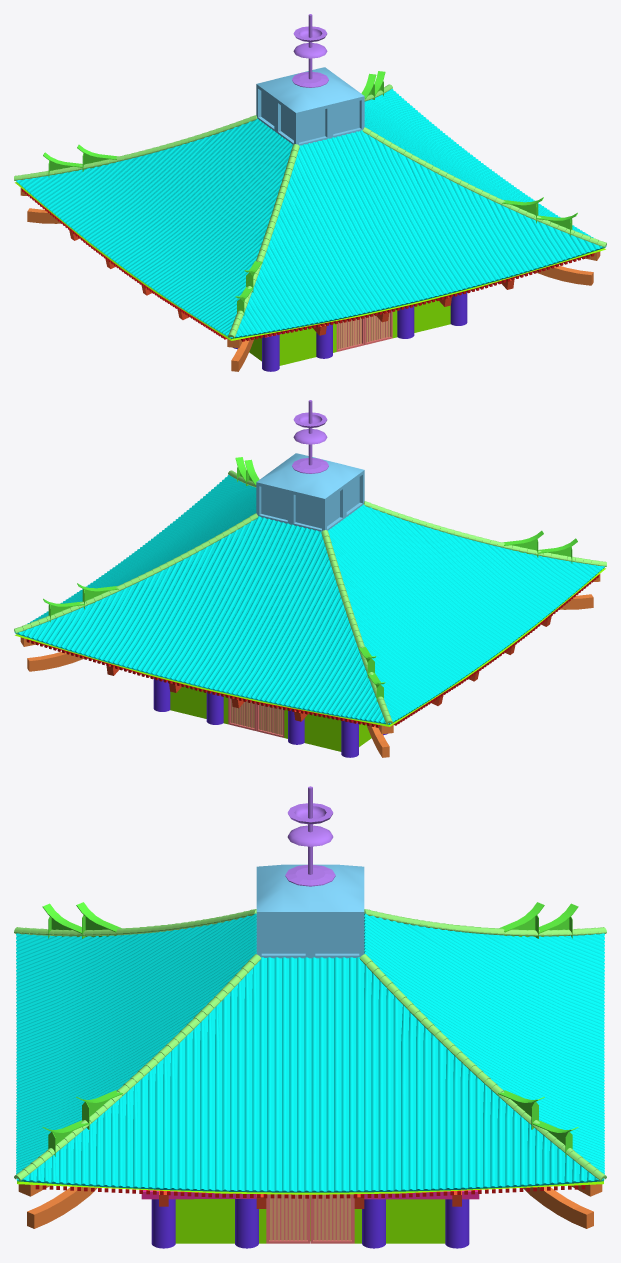
Rendered from PagodaTop.FBX.
3 views of the same model, one above another, from view 1: azimuth 30°, elevation 25°; view 2: azimuth 150°, elevation 25°; view 3: azimuth 270°, elevation 25° (orthographic). The views are drawn at different scales.
Visible parts, largest first — view 1: Shape001, Shape004, Shape002, Roof_Cap, Cap_Base, ArchTiles013, Roof_Decor, ArchTiles011, ArchTiles012, Fence_Segment088, Top, Pillar025 (+4 smaller); view 2: Shape003, Shape004, Shape002, Roof_Cap, Cap_Base, ArchTiles004, Roof_Decor, ArchTiles012, ArchTiles011, ArchTiles008, Pillar027, Pillar032 (+4 smaller); view 3: Shape002, Shape003, Shape001, Roof_Cap, Cap_Base, Roof_Decor, ArchTiles004, ArchTiles013, ArchTiles012, ArchTiles011, ArchTiles008, Fence_Segment088 (+7 smaller).
Part boxes in pixels (x1,y1,x2,y2): Shape001: (231, 130, 605, 338); Shape004: (16, 118, 293, 338); Shape002: (364, 89, 606, 246); Roof_Cap: (256, 67, 364, 145); Cap_Base: (15, 182, 605, 365); ArchTiles013: (362, 127, 606, 247); Roof_Decor: (292, 14, 328, 87); ArchTiles011: (14, 115, 257, 180); ArchTiles012: (228, 144, 299, 338); Fence_Segment088: (536, 251, 600, 285); Top: (69, 230, 514, 335); Pillar025: (262, 335, 279, 371); Shape003: (15, 516, 389, 724); Shape004: (327, 504, 604, 724); Shape002: (14, 475, 256, 632); Roof_Cap: (256, 453, 364, 531); Cap_Base: (15, 568, 605, 751); ArchTiles004: (14, 513, 258, 633); Roof_Decor: (292, 400, 328, 473); ArchTiles012: (363, 501, 606, 566); ArchTiles011: (321, 530, 392, 724); ArchTiles008: (20, 637, 83, 671); Pillar027: (341, 721, 358, 757); Pillar032: (206, 691, 223, 724); Shape002: (17, 957, 603, 1192); Shape003: (364, 913, 604, 1180); Shape001: (16, 913, 256, 1180); Roof_Cap: (256, 864, 364, 958); Cap_Base: (17, 1181, 603, 1243); Roof_Decor: (285, 786, 335, 886); ArchTiles004: (359, 954, 606, 1180); ArchTiles013: (14, 954, 261, 1180); ArchTiles012: (14, 909, 256, 936); ArchTiles011: (364, 909, 606, 936); ArchTiles008: (523, 1184, 602, 1228); Fence_Segment088: (18, 1184, 97, 1228).
Bounding box in the file's own units: 477 × 350 × 477.
